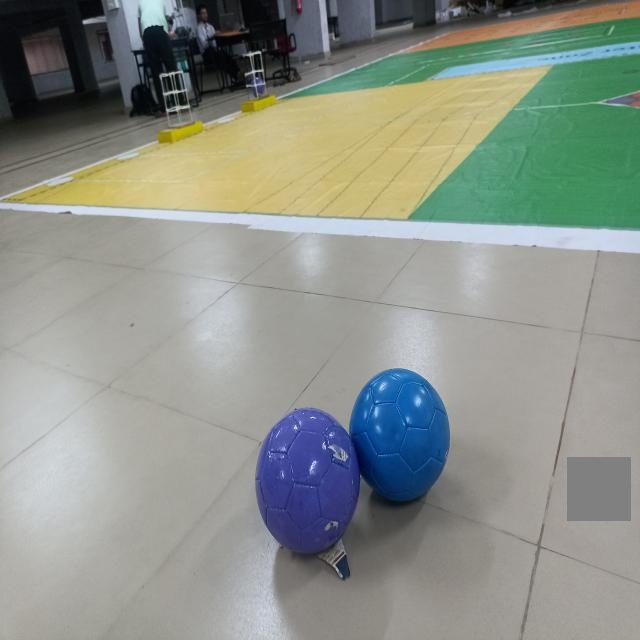blue_ball: (352, 360, 452, 510)
purple_ball: (255, 404, 357, 561)
